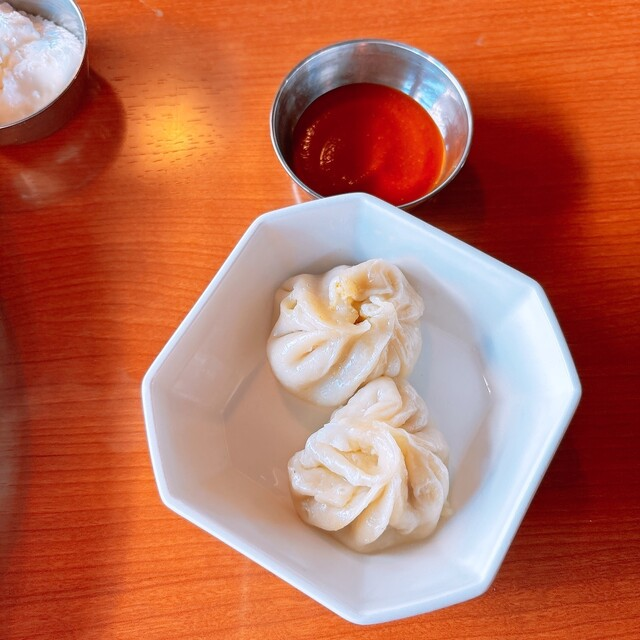momo: (293, 376, 449, 551), (271, 270, 424, 403)
